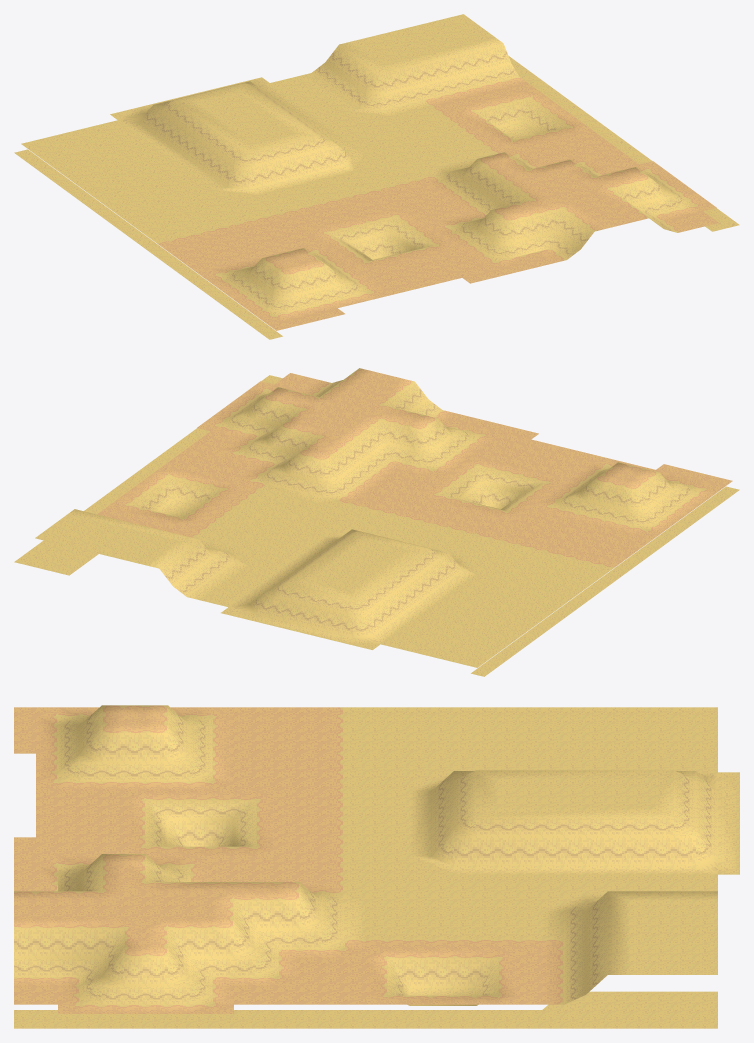
3 renders of one model, top to bottom at view 1: azimuth 30°, elevation 25°; view 2: azimuth 150°, elevation 25°; view 3: azimuth 270°, elevation 25°, orthographic. The views are drawn at different scales.
Parts seen in each view (by area): view 1: polygon1, polygon0, polygon2, polygon3; view 2: polygon1, polygon0, polygon2, polygon3; view 3: polygon1, polygon0, polygon2, polygon3.
Part boxes in pixels (bbox=[...]): polygon1: bbox=[14, 14, 739, 339]; polygon0: bbox=[118, 43, 686, 312]; polygon2: bbox=[157, 77, 716, 324]; polygon3: bbox=[165, 82, 718, 330]; polygon1: bbox=[14, 375, 739, 676]; polygon0: bbox=[129, 380, 694, 643]; polygon2: bbox=[97, 368, 724, 568]; polygon3: bbox=[99, 371, 732, 562]; polygon1: bbox=[14, 707, 739, 1028]; polygon0: bbox=[14, 705, 717, 1005]; polygon2: bbox=[14, 705, 563, 1013]; polygon3: bbox=[14, 707, 541, 1004].
Size of the model in its own units: 8.5 by 0.75 by 8.25.
